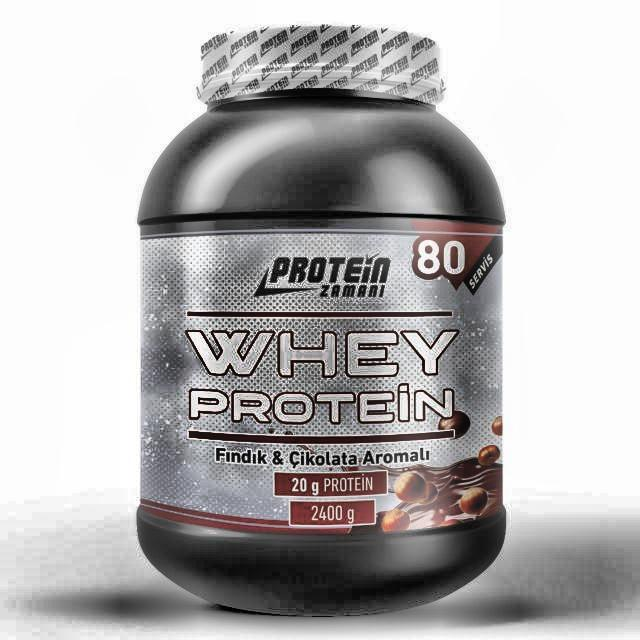plastic: (133, 22, 507, 623)
